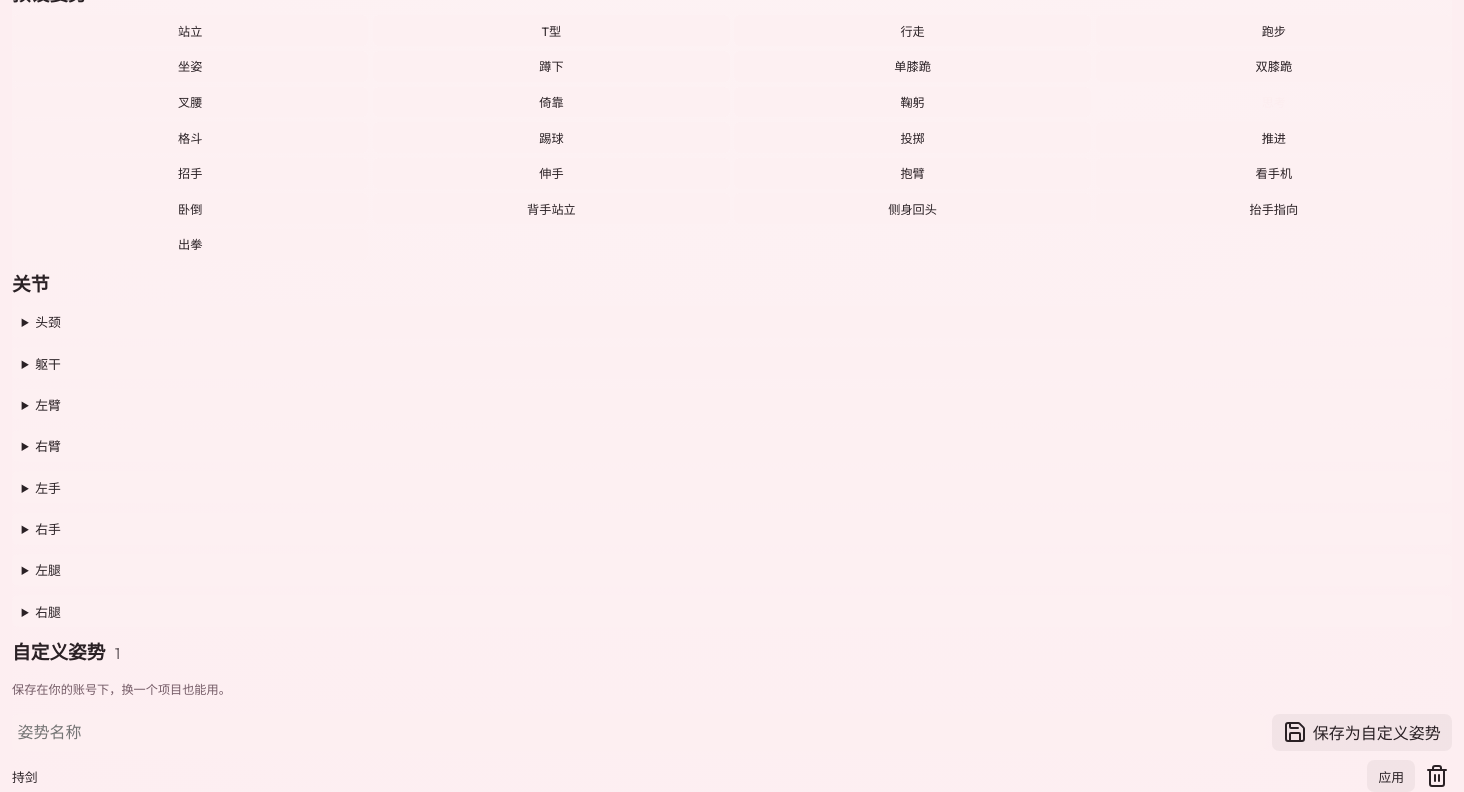
Test: PosePanel › keeps saved poses with the person: no task id in the requests, apply, replace and delete
The width and height of the screenshot is (1464, 792).
(page scrolled)
Check: the text "持剑" is shown, box top-left (12, 769), bottom-right (38, 785)
Click the button with aria-label "应用 持剑".
click(1391, 776)  # box top-left (1367, 760), bottom-right (1415, 791)
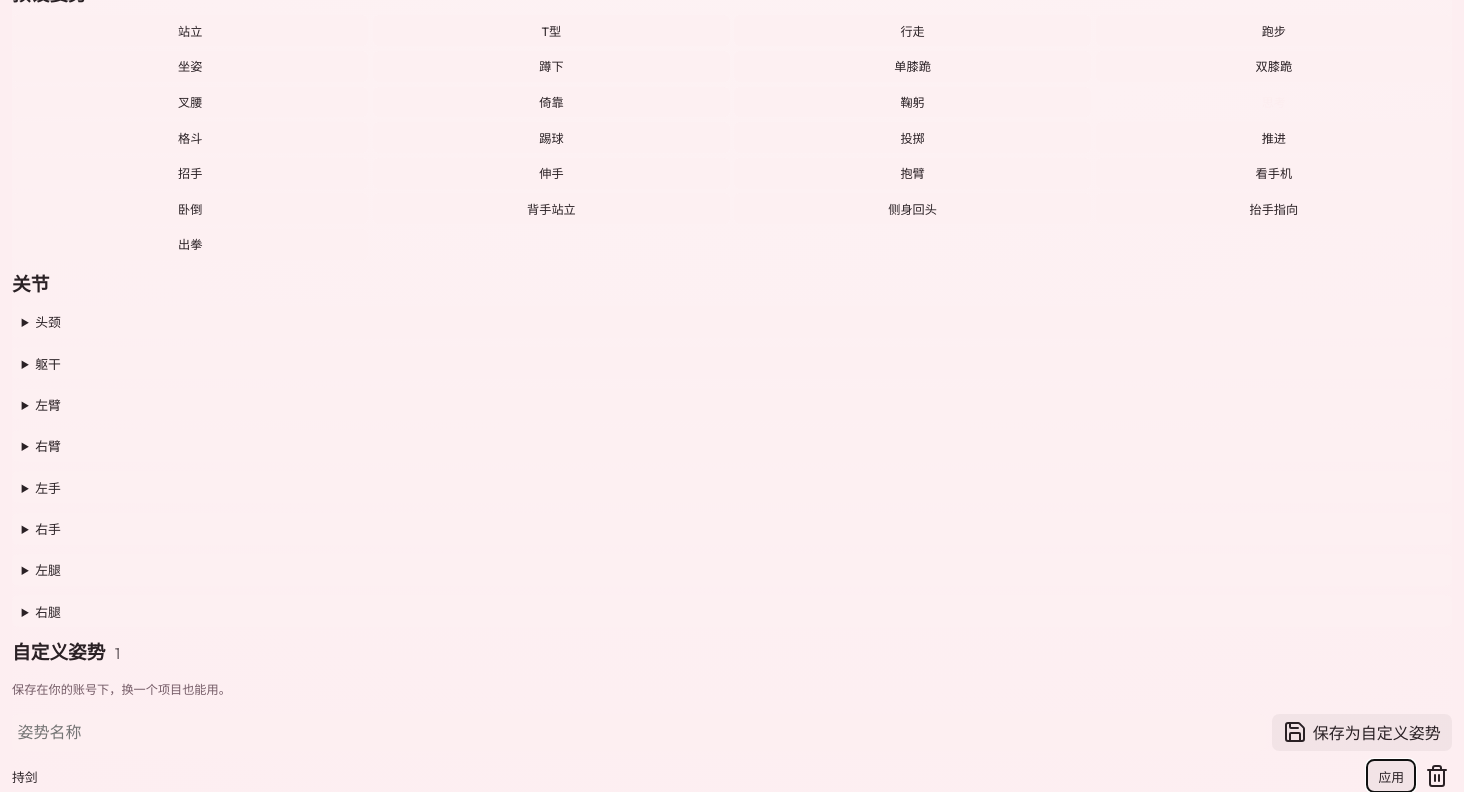
Click the button "保存为自定义姿势".
click(1362, 732)  # box top-left (1272, 714), bottom-right (1452, 751)
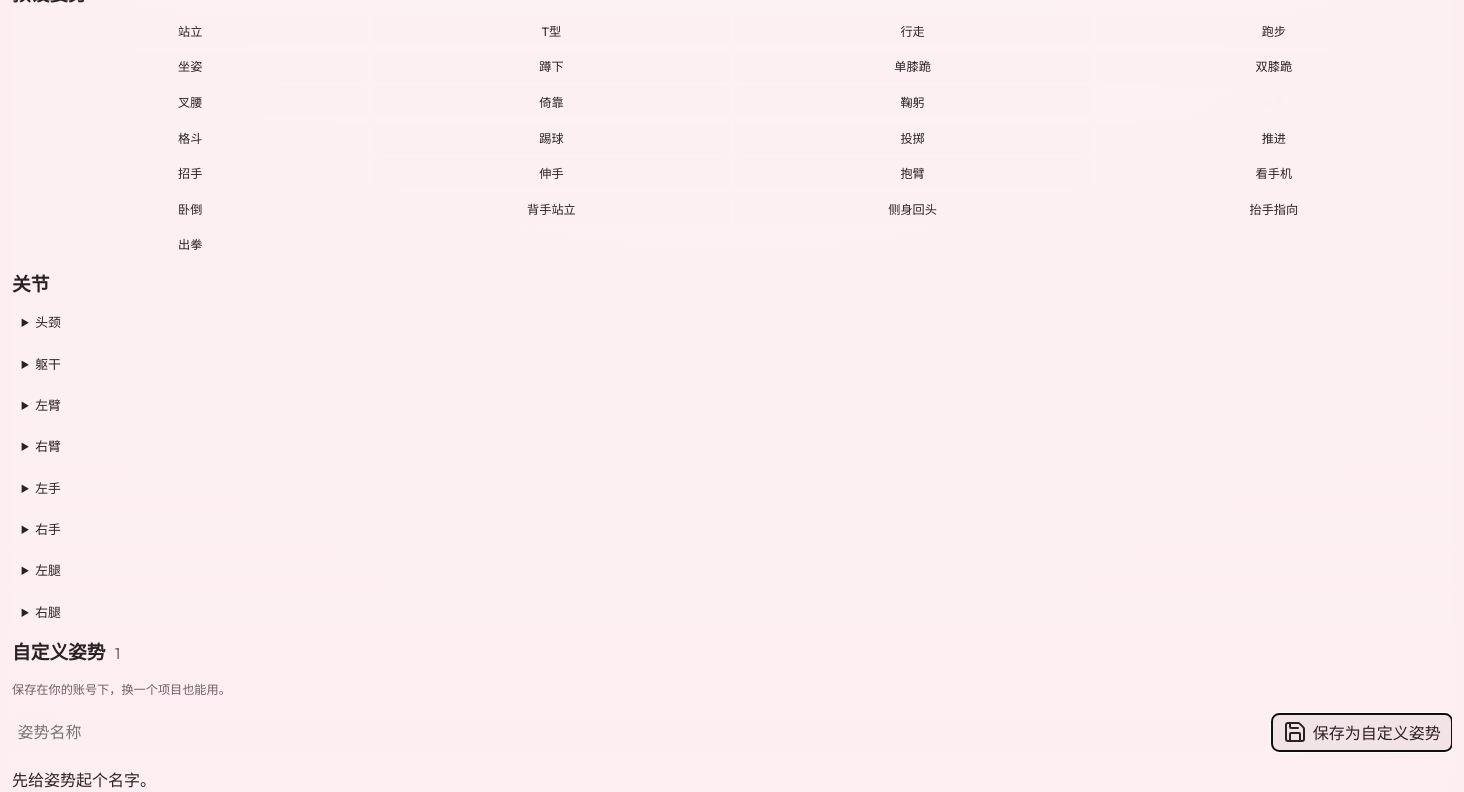
Check: the text "先给姿势起个名字。" is shown, box top-left (12, 770), bottom-right (156, 790)
Type "托腮" into the field labelled "姿势名称".
click(639, 732); type("托腮")  # box top-left (12, 714), bottom-right (1266, 751)
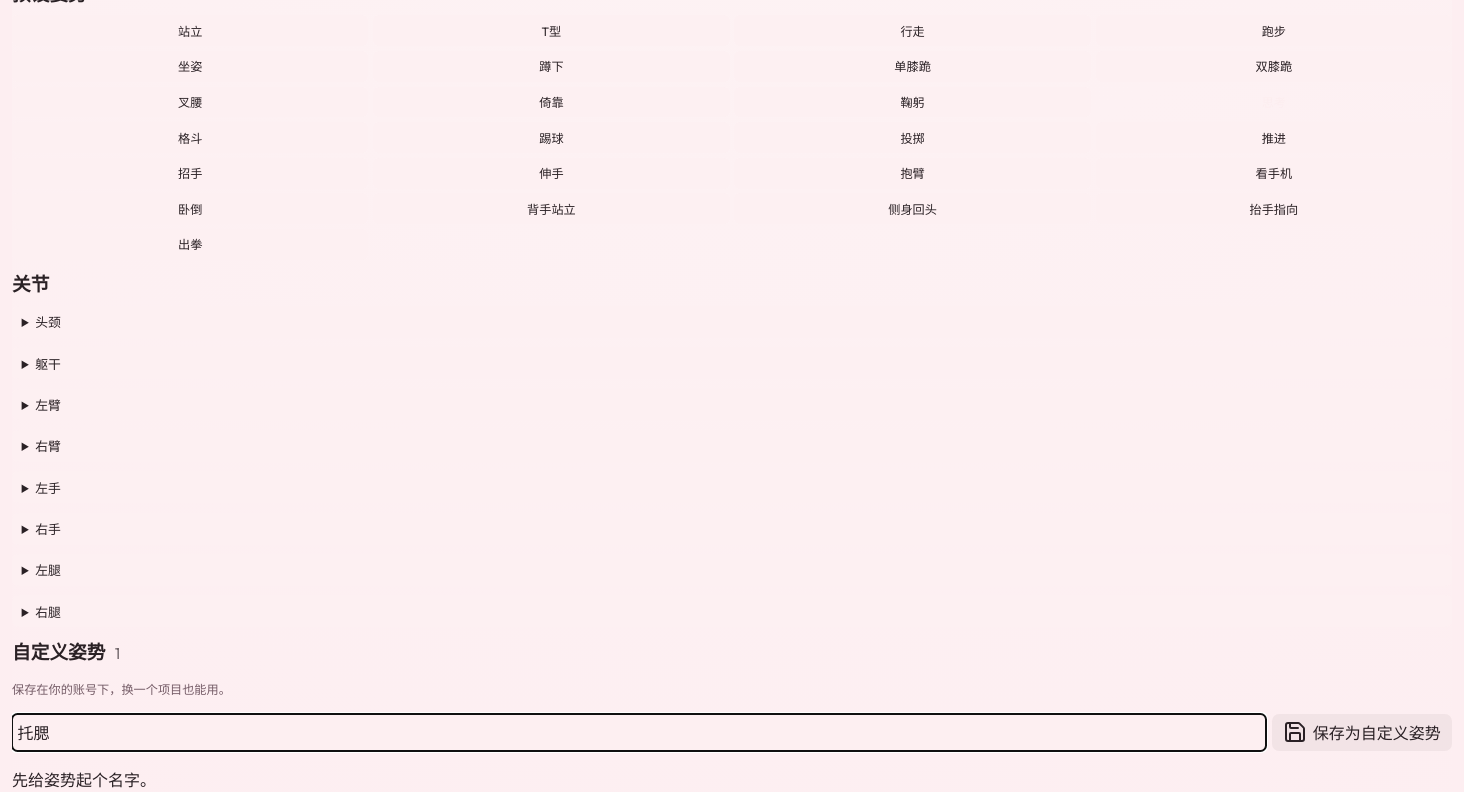
Click the button "保存为自定义姿势".
click(1362, 732)  # box top-left (1272, 714), bottom-right (1452, 751)
(page scrolled)
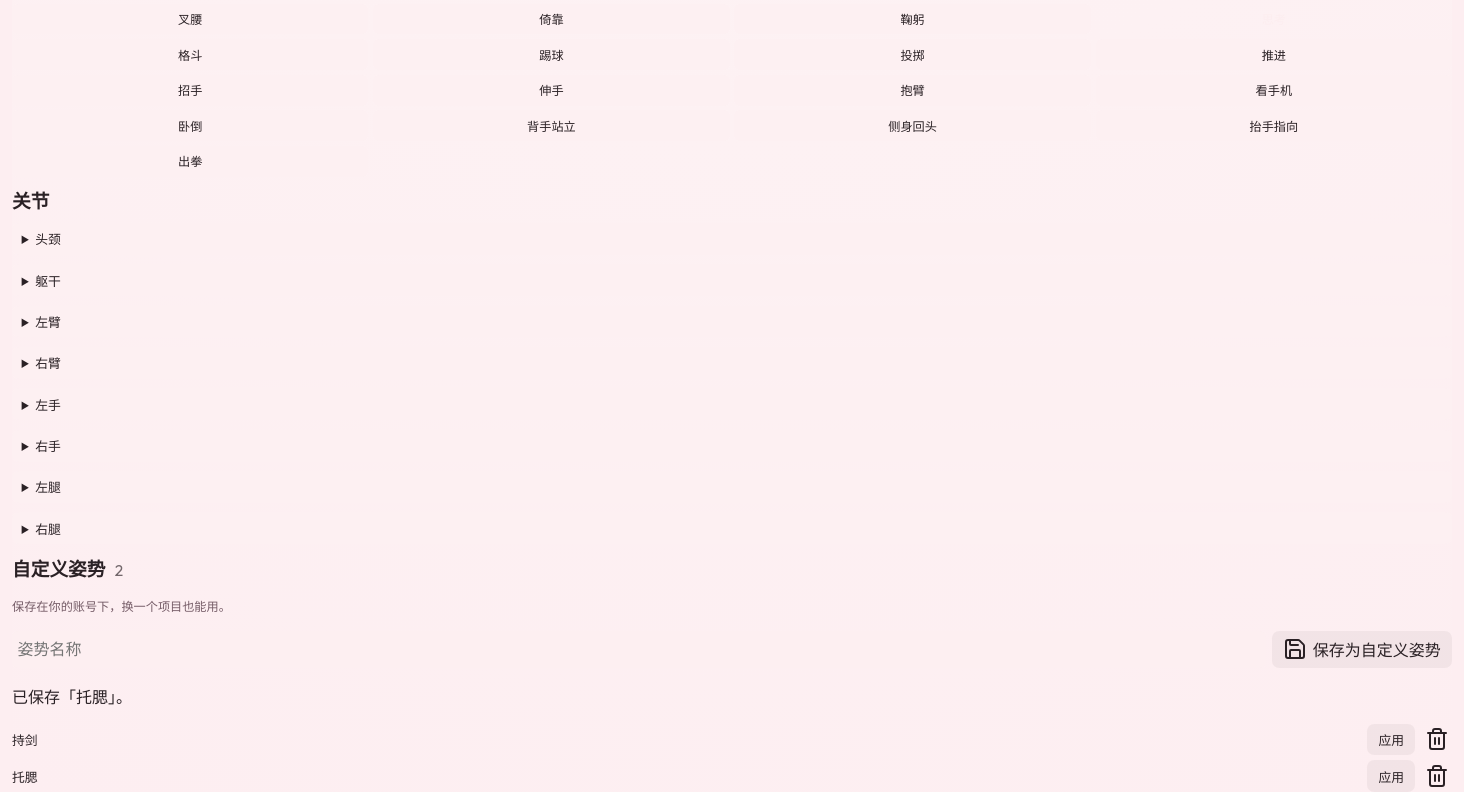
Check: the text "已保存「托腮」。" is shown, box top-left (12, 687), bottom-right (132, 707)
Check: the button with aria-label "应用 托腮" is shown, box top-left (1367, 760), bottom-right (1415, 791)
Click the button named "删除 持剑".
click(1437, 740)  # box top-left (1422, 724), bottom-right (1452, 755)
(page scrolled)
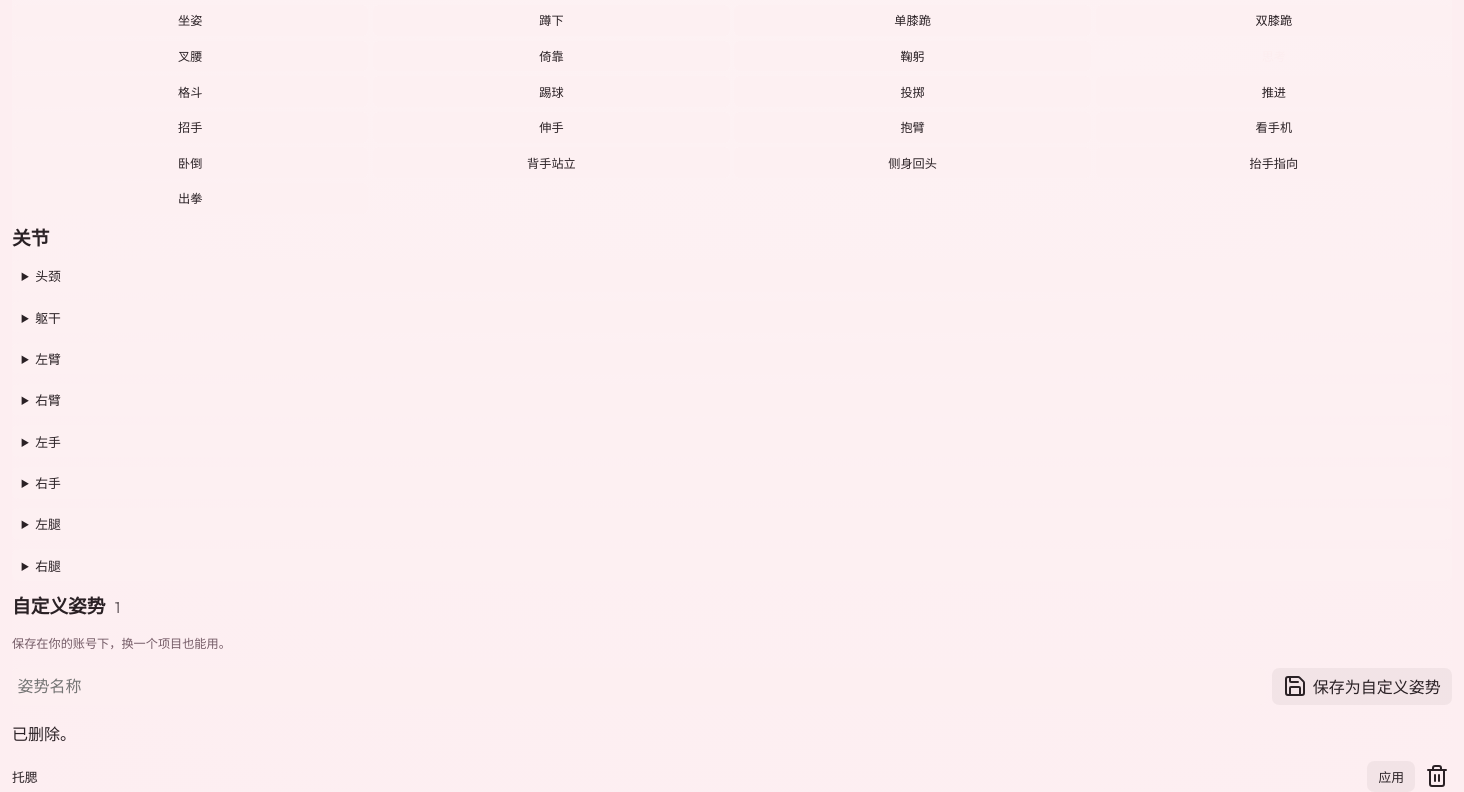
Check: the text "持剑" is gone
